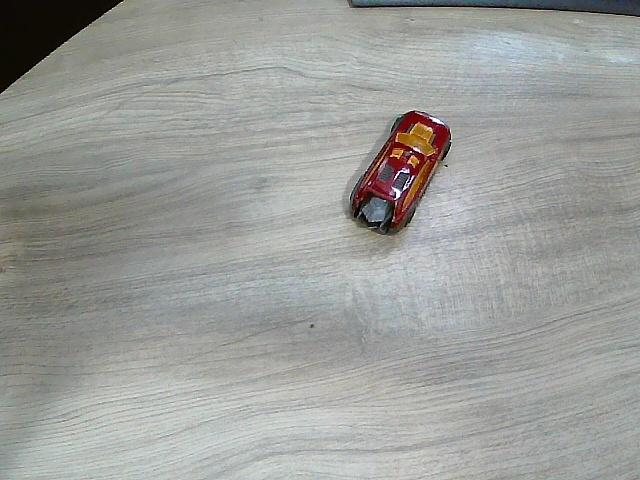Carro: (346, 112, 452, 236)
